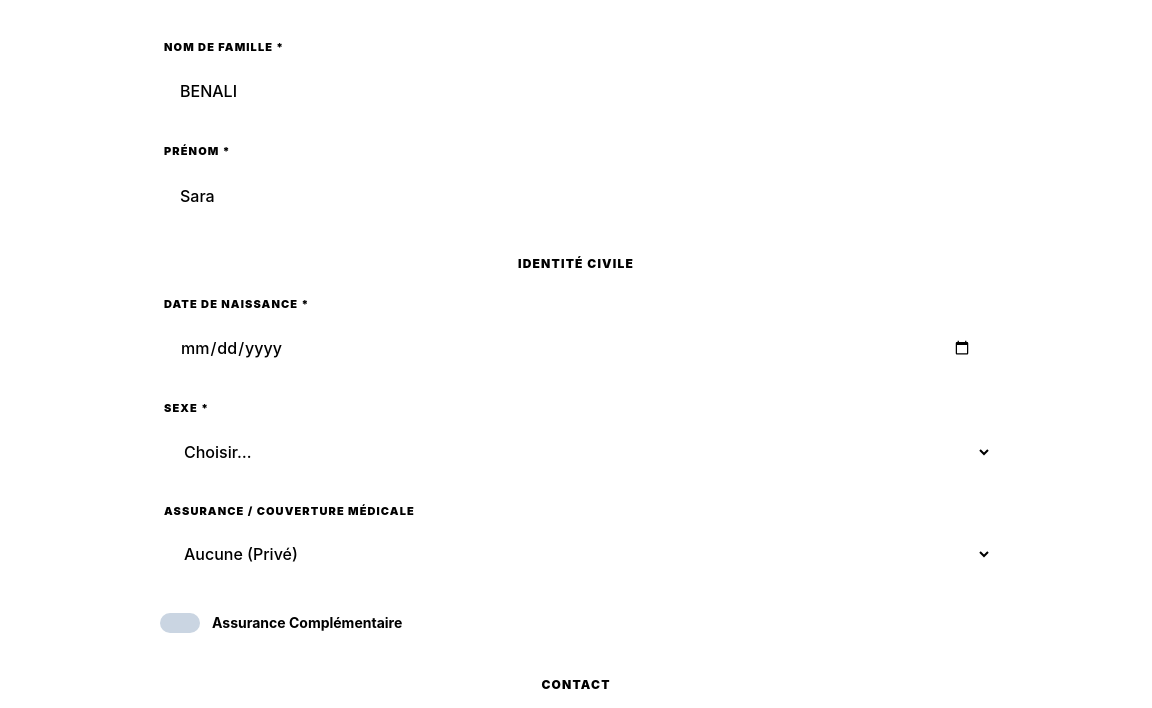
Scenario: AddPatientForm G2 interactive matrix › fails closed when anti-duplicate verification is unavailable
(page scrolled)
In the date field named "date_naissance": (576, 348) x1=160 y1=320 x2=992 y2=376, type "1990-01-01"
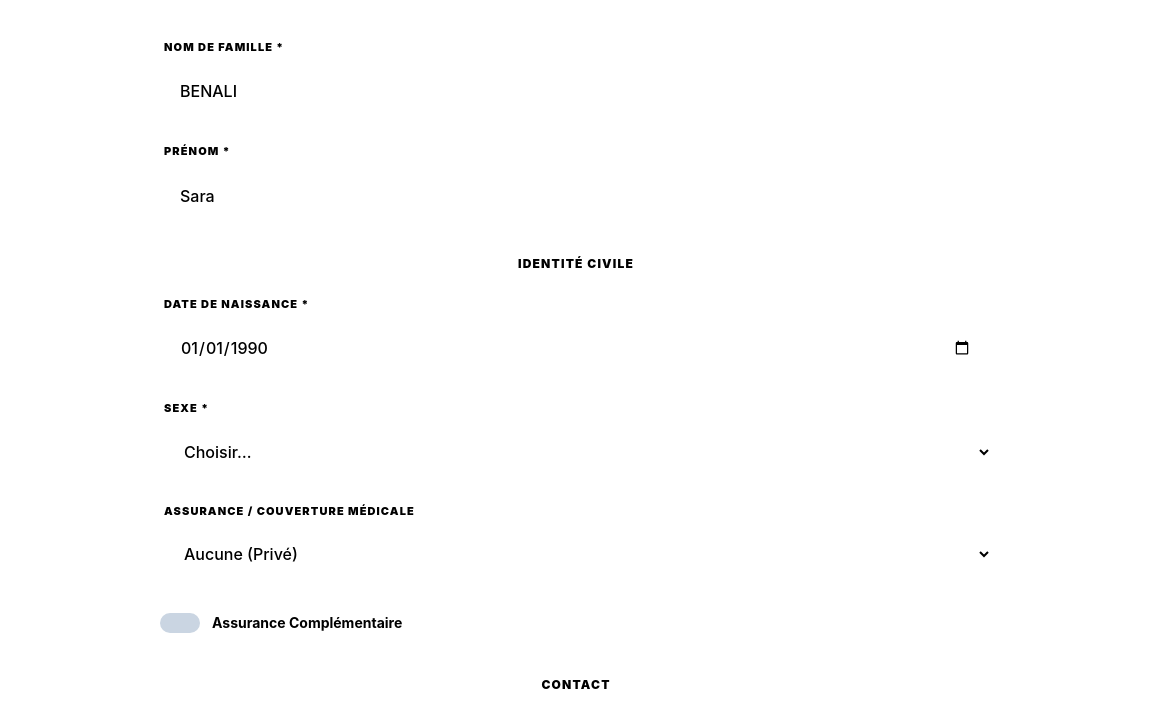
Select "Féminin" in the dropdown named "sexe" below "Sexe *": (576, 452) x1=160 y1=424 x2=992 y2=478
(page scrolled)
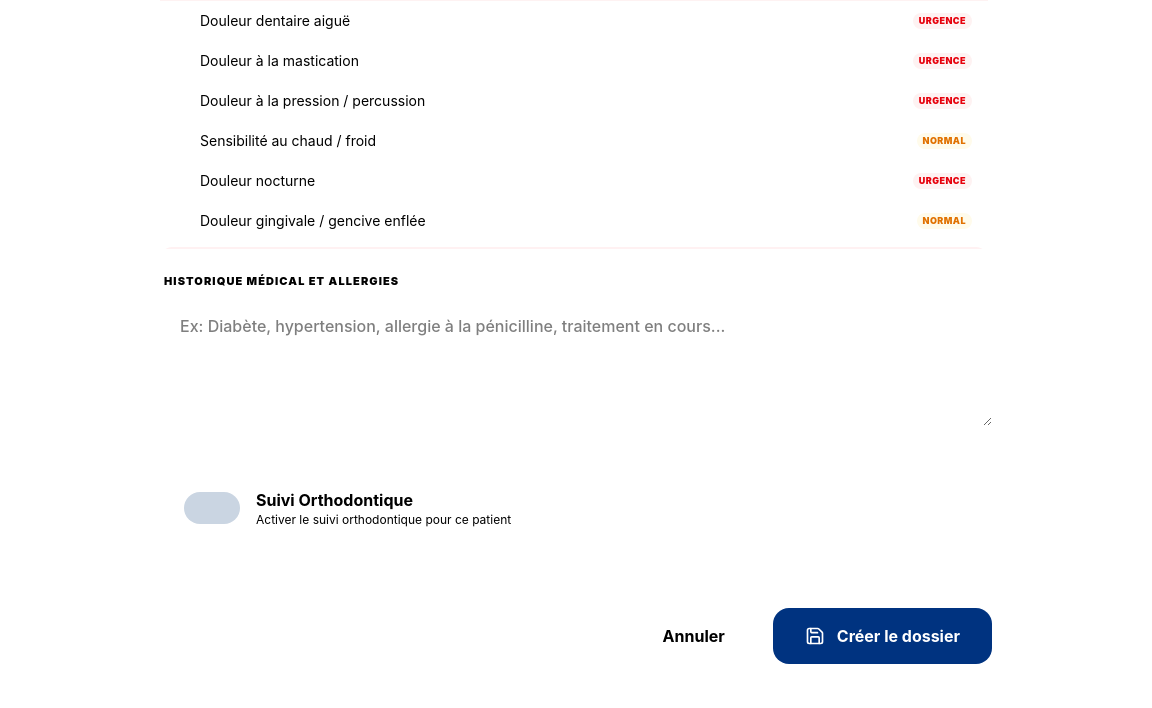
Click the button "Créer le dossier": (882, 636) x1=773 y1=608 x2=992 y2=664
(page scrolled)
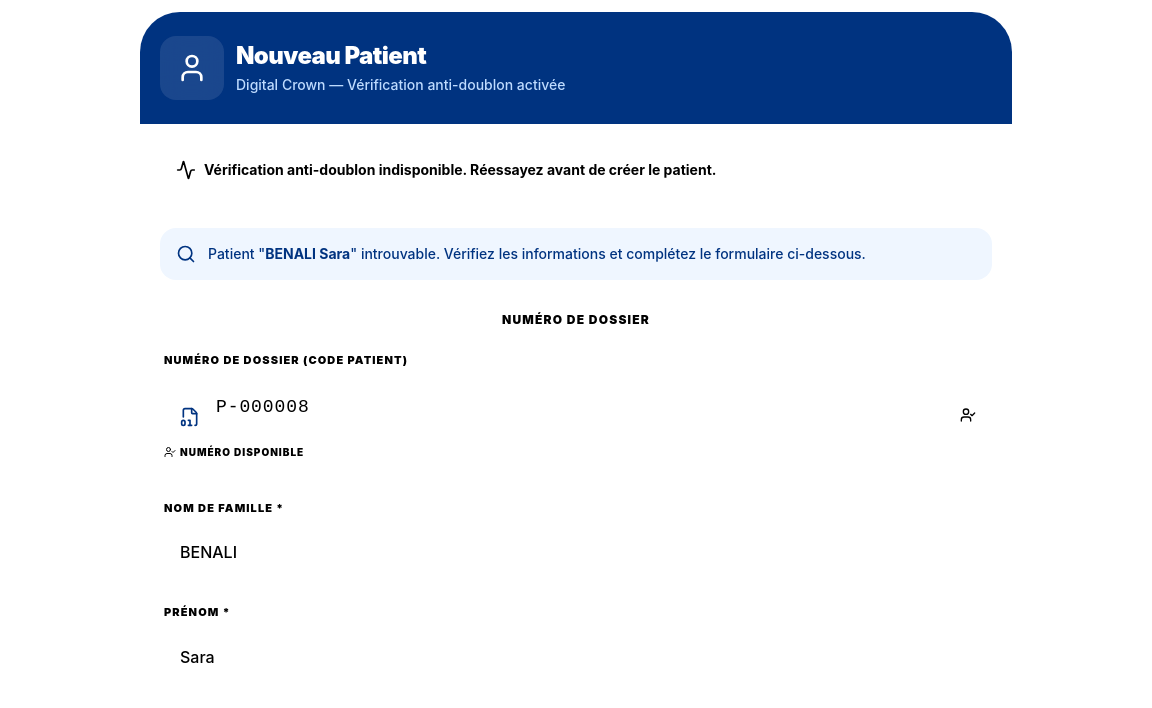
Expected: the text "Vérification anti-doublon indisponible" is shown, x1=204 y1=161 x2=716 y2=178
